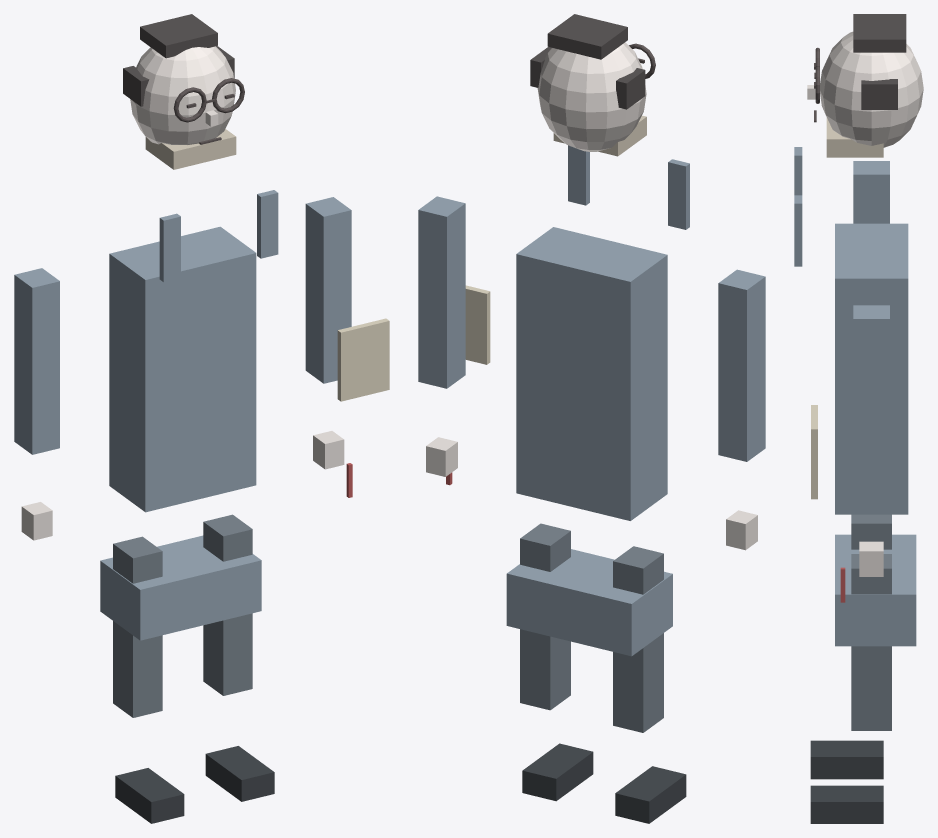
File: teacher_p0_blockout.glb
3 renders of one model, left to right at view 1: azimuth 30°, elevation 25°; view 2: azimuth 150°, elevation 25°; view 3: azimuth 270°, elevation 25°, orthographic. The views are drawn at different scales.
Parts seen in each view (by area): view 1: Coat, CoatFlare, LSleeve, RSleeve, Face, LTrousers, RTrousers, Folder, RShoe, LShoe, Hair, Collar (+5 smaller); view 2: Coat, CoatFlare, LSleeve, RSleeve, Face, LTrousers, RTrousers, LShoe, RShoe, Hair, Folder, LapelL (+5 smaller); view 3: Coat, Face, CoatFlare, RSleeve, RTrousers, LShoe, RShoe, LSleeve, Hair, LTrousers, Collar, HairSideR (+4 smaller).
Part boxes in pixels (left/top/right/bottom): Coat: left=109, top=226, right=256, bottom=512; CoatFlare: left=100, top=535, right=261, bottom=640; LSleeve: left=14, top=268, right=59, bottom=454; RSleeve: left=305, top=197, right=351, bottom=383; Face: left=130, top=46, right=235, bottom=144; LTrousers: left=113, top=536, right=162, bottom=717; RTrousers: left=203, top=514, right=252, bottom=695; Folder: left=337, top=318, right=389, bottom=401; RShoe: left=205, top=746, right=274, bottom=801; LShoe: left=115, top=768, right=184, bottom=823; Hair: left=140, top=14, right=217, bottom=58; Collar: left=145, top=129, right=236, bottom=169; Coat: left=516, top=227, right=667, bottom=520; CoatFlare: left=506, top=549, right=672, bottom=656; LSleeve: left=718, top=269, right=765, bottom=461; RSleeve: left=418, top=196, right=465, bottom=388; Face: left=537, top=42, right=646, bottom=151; LTrousers: left=613, top=546, right=663, bottom=732; RTrousers: left=520, top=523, right=570, bottom=710; LShoe: left=615, top=766, right=686, bottom=823; RShoe: left=522, top=743, right=593, bottom=801; Hair: left=547, top=14, right=627, bottom=59; Folder: left=465, top=285, right=490, bottom=364; LapelL: left=668, top=159, right=689, bottom=229; Coat: left=835, top=223, right=908, bottom=514; Face: left=820, top=31, right=923, bottom=147; CoatFlare: left=835, top=534, right=916, bottom=646; RSleeve: left=853, top=305, right=889, bottom=488; RTrousers: left=851, top=554, right=891, bottom=730; LShoe: left=810, top=740, right=883, bottom=779; RShoe: left=810, top=785, right=883, bottom=823; LSleeve: left=853, top=161, right=889, bottom=223; Hair: left=853, top=14, right=906, bottom=52; LTrousers: left=851, top=514, right=891, bottom=549; Collar: left=826, top=117, right=883, bottom=157; HairSideR: left=861, top=79, right=897, bottom=109.
Bounding box in the file's own units: 0.97 × 2.08 × 0.3183.
